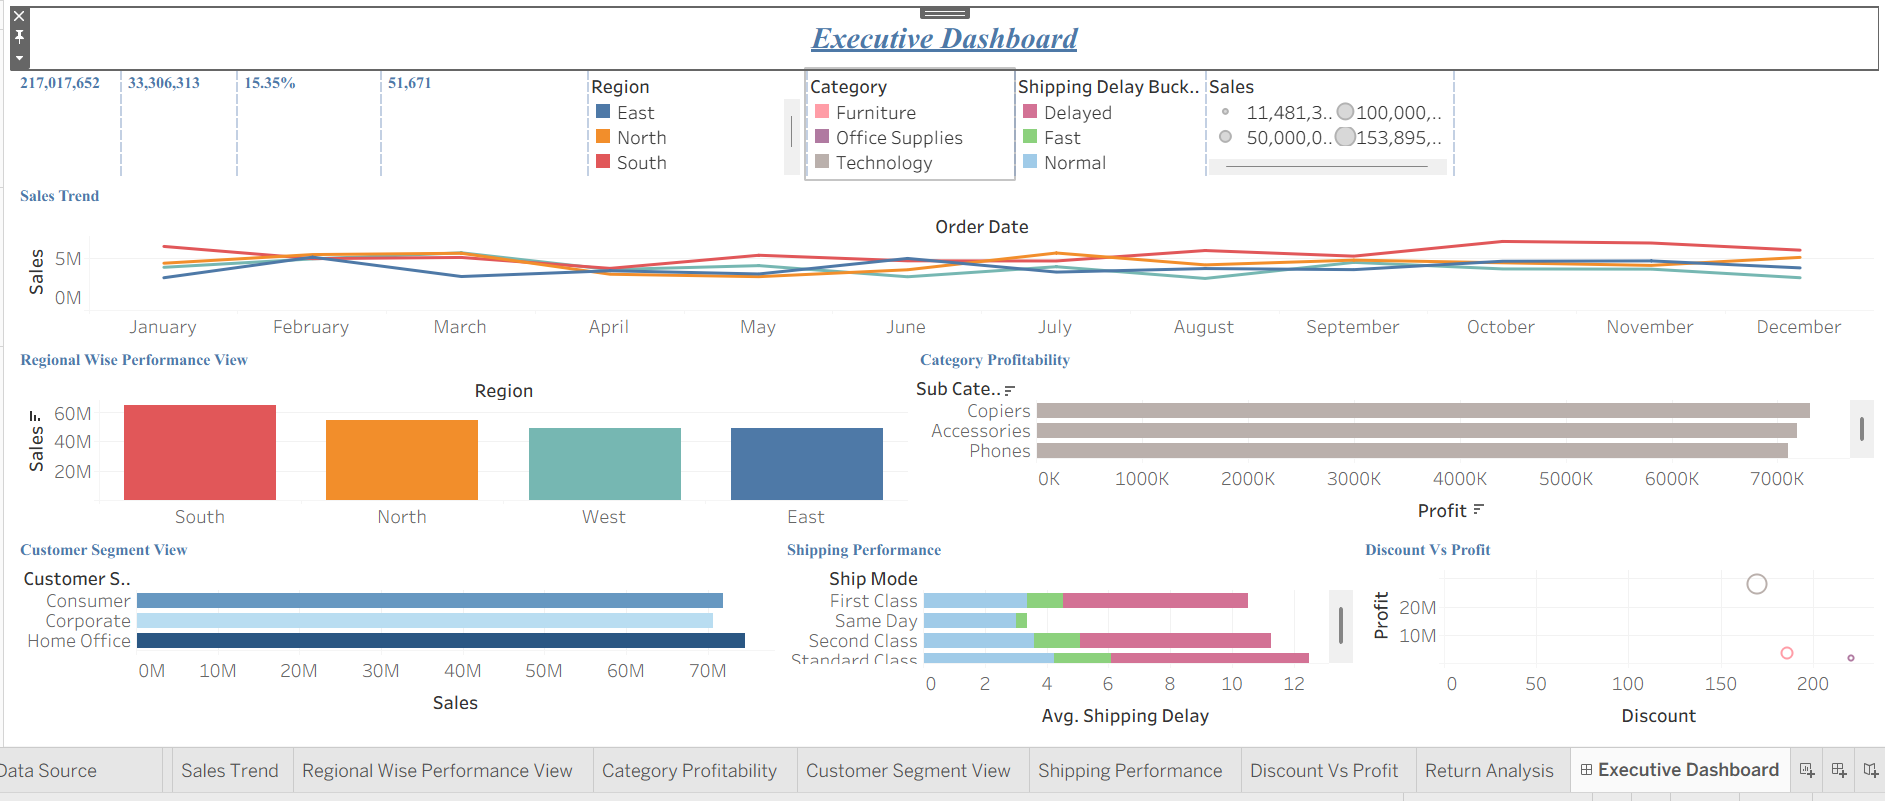

The dashboard page shown, as its layout file describes it:
{"tool":"tableau","page":{"name":"Executive Dashboard","canvas":[1000,1000],"units":"permille","ordinal":0},"visuals":[{"type":"title","box":[4.2,10.7,991.5,81.8]},{"type":"worksheet","title":"Total Sales","mark":"Automatic","box":[4.2,92.5,57.4,147.1]},{"type":"worksheet","title":"Total Profit","mark":"Automatic","box":[61.6,92.5,61.6,147.1]},{"type":"worksheet","title":"Profit Margin","mark":"Automatic","box":[123.3,92.5,76.5,147.1]},{"type":"worksheet","title":"Avg Order Value","mark":"Automatic","box":[199.8,92.5,110,147.1]},{"type":"legend","title":"Sales Trend","param":"[federated.016ygvn1skgenk1b298vn037kizk].[none:region:nk]","box":[309.8,92.5,116.4,147.1]},{"type":"legend","title":"Category Profitability","param":"[federated.016ygvn1skgenk1b298vn037kizk].[none:category:nk]","box":[426.1,92.5,110.5,147.1]},{"type":"legend","title":"Shipping Performance","param":"[federated.016ygvn1skgenk1b298vn037kizk].[none:Calculation_1159452146741253:nk]","box":[536.6,92.5,101.5,147.1]},{"type":"legend","title":"Discount Vs Profit","param":"[federated.016ygvn1skgenk1b298vn037kizk].[sum:sales:qk]","box":[638.1,92.5,131.8,147.1]},{"type":"worksheet","title":"Sales Trend","mark":"Automatic","rows":["sales"],"cols":["order_date"],"box":[4.2,239.6,991.5,219.8]},{"type":"worksheet","title":"Regional Wise Performance ","mark":"Automatic","rows":["sales"],"cols":["region"],"box":[4.2,459.4,478.1,255.1]},{"type":"worksheet","title":"Category Profitability","mark":"Automatic","rows":["sub_category"],"cols":["profit"],"box":[482.4,459.4,513.4,255.1]},{"type":"worksheet","title":"Customer Segment View","mark":"Automatic","rows":["customer_segment"],"cols":["sales"],"box":[4.2,714.5,407.6,274.8]},{"type":"worksheet","title":"Shipping Performance","mark":"Automatic","rows":["ship_mode"],"cols":["Calculation_1159452146294788"],"box":[411.8,714.5,307.1,274.8]},{"type":"worksheet","title":"Discount Vs Profit","mark":"Automatic","rows":["profit"],"cols":["discount"],"box":[718.9,714.5,276.8,274.8]}]}

Visuals, with their boxes on the dashboard's canvas, which has no fixed pixel size, in thousandths of its width and height (x1, y1, x2, y2). These are canvas units, not pixel positions in the 1885x801 screenshot, which may show the page scaled, cropped or inside an application window:
title: locate(4, 11, 996, 92)
"Total Sales" worksheet: locate(4, 92, 62, 240)
"Total Profit" worksheet: locate(62, 92, 123, 240)
"Profit Margin" worksheet: locate(123, 92, 200, 240)
"Avg Order Value" worksheet: locate(200, 92, 310, 240)
"Sales Trend" legend: locate(310, 92, 426, 240)
"Category Profitability" legend: locate(426, 92, 537, 240)
"Shipping Performance" legend: locate(537, 92, 638, 240)
"Discount Vs Profit" legend: locate(638, 92, 770, 240)
"Sales Trend" worksheet: locate(4, 240, 996, 459)
"Regional Wise Performance " worksheet: locate(4, 459, 482, 714)
"Category Profitability" worksheet: locate(482, 459, 996, 714)
"Customer Segment View" worksheet: locate(4, 714, 412, 989)
"Shipping Performance" worksheet: locate(412, 714, 719, 989)
"Discount Vs Profit" worksheet: locate(719, 714, 996, 989)
